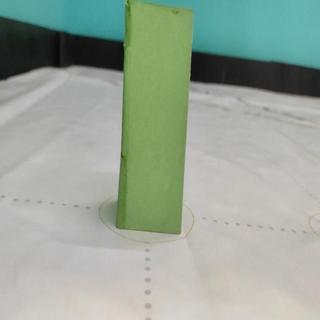greenbox: (117, 0, 194, 235)
